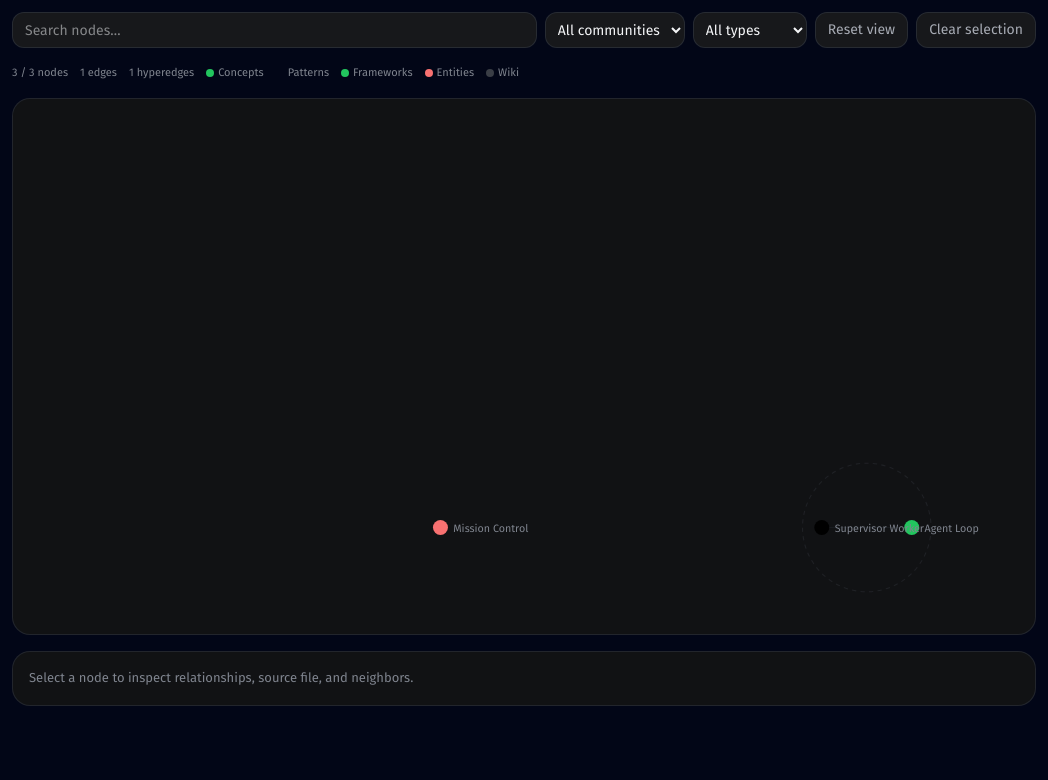
Test: KnowledgeGraphPanelContent › filters nodes by search text
Type "Mission Control" into the search field named "Search graph nodes" at (274, 30), box x1=12 y1=12 x2=537 y2=48
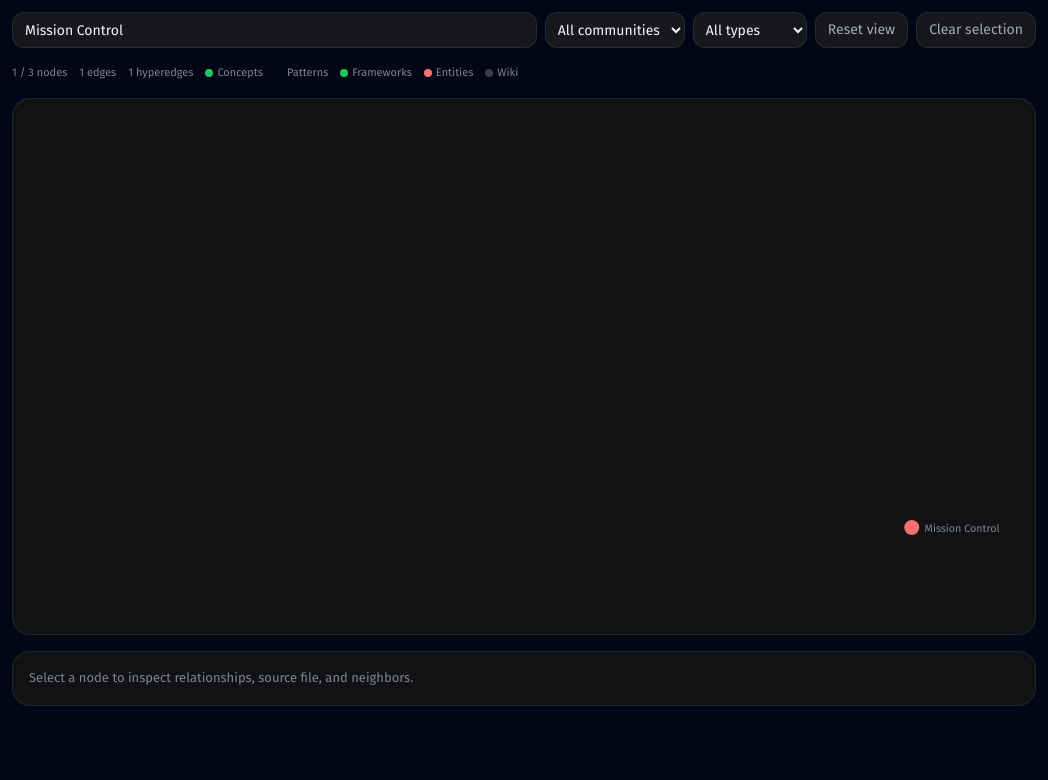
Expected: the text "Mission Control" is shown, x1=925 y1=521 x2=1000 y2=534
Now the text "1 / 3 nodes" is shown, box x1=12 y1=64 x2=67 y2=82
Now the picture "Agent Loop" is gone
